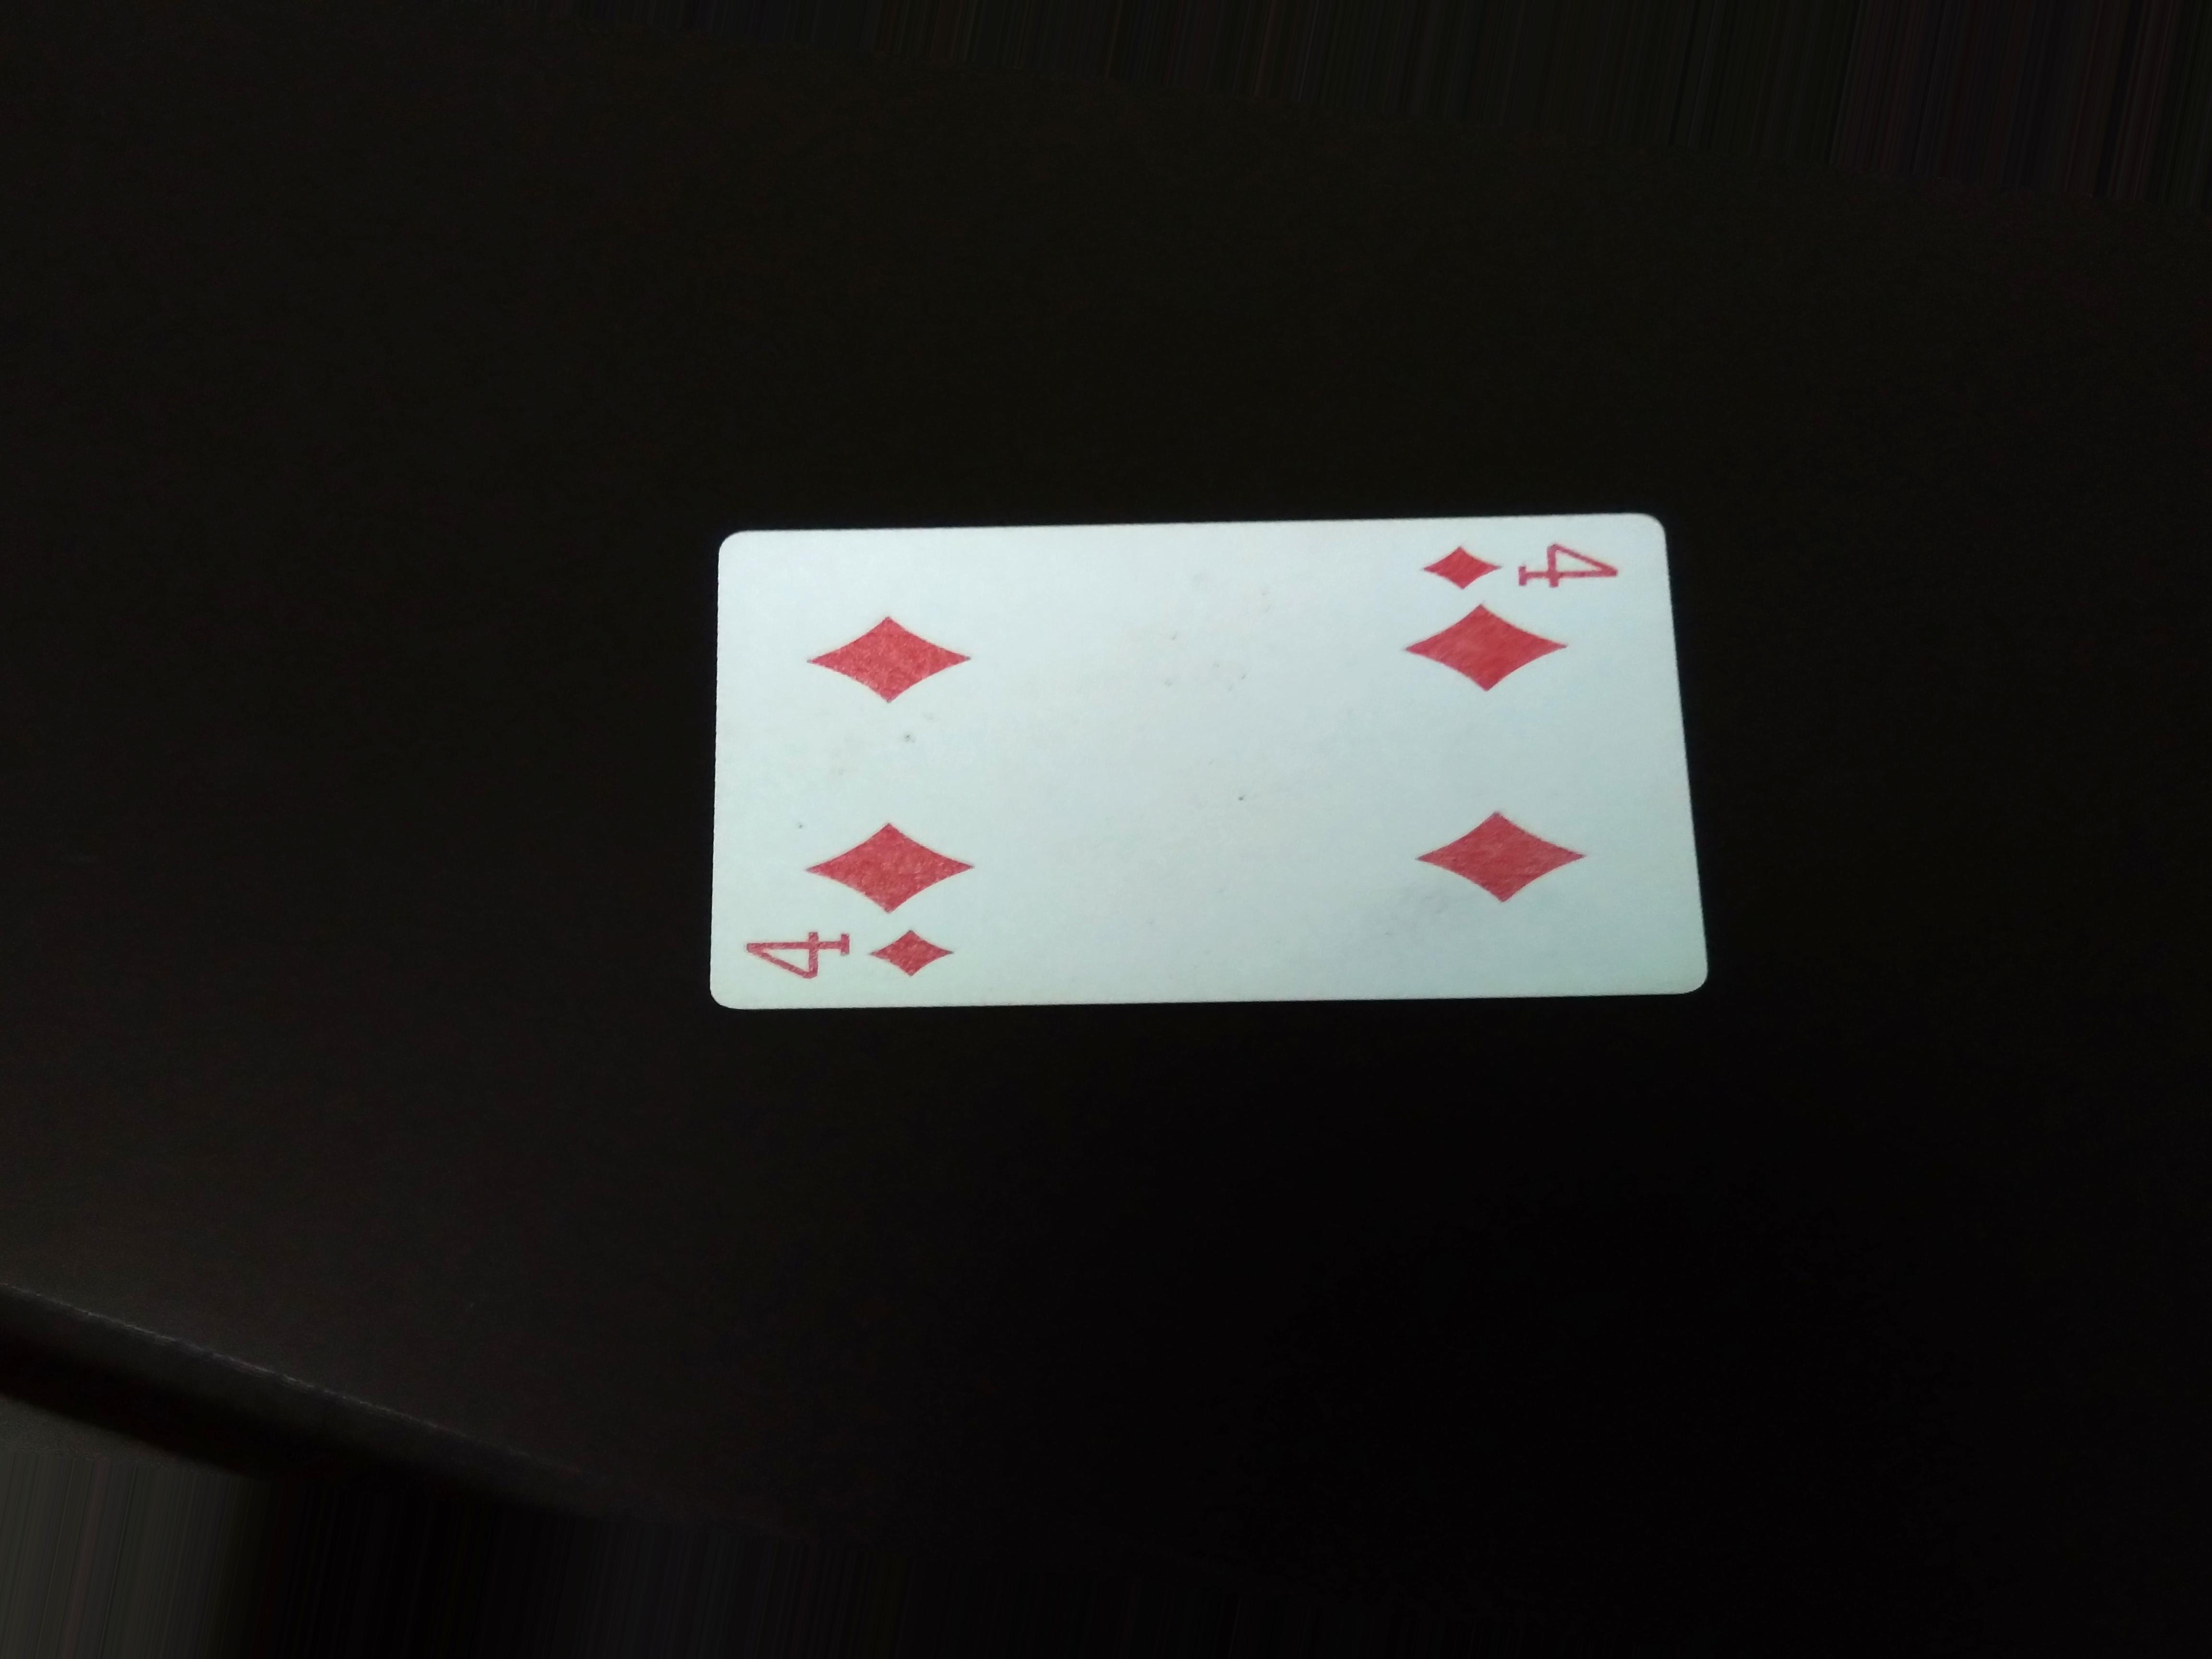4D: (732, 920, 982, 988)
